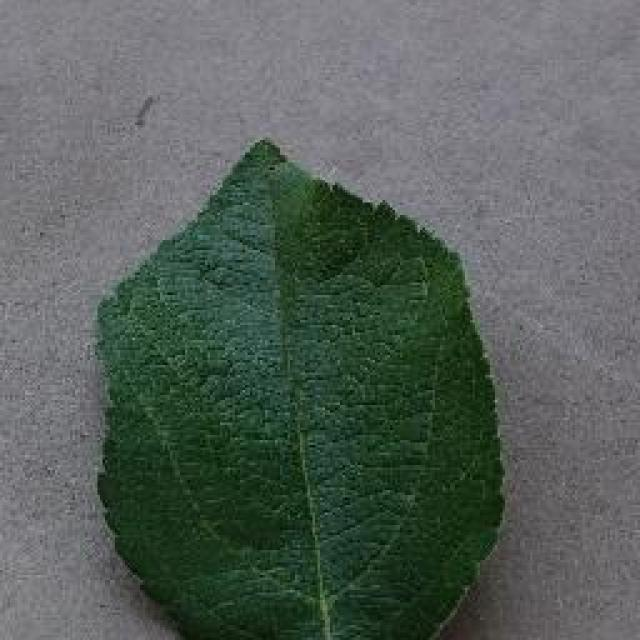apple healthy: (90, 135, 508, 637)
